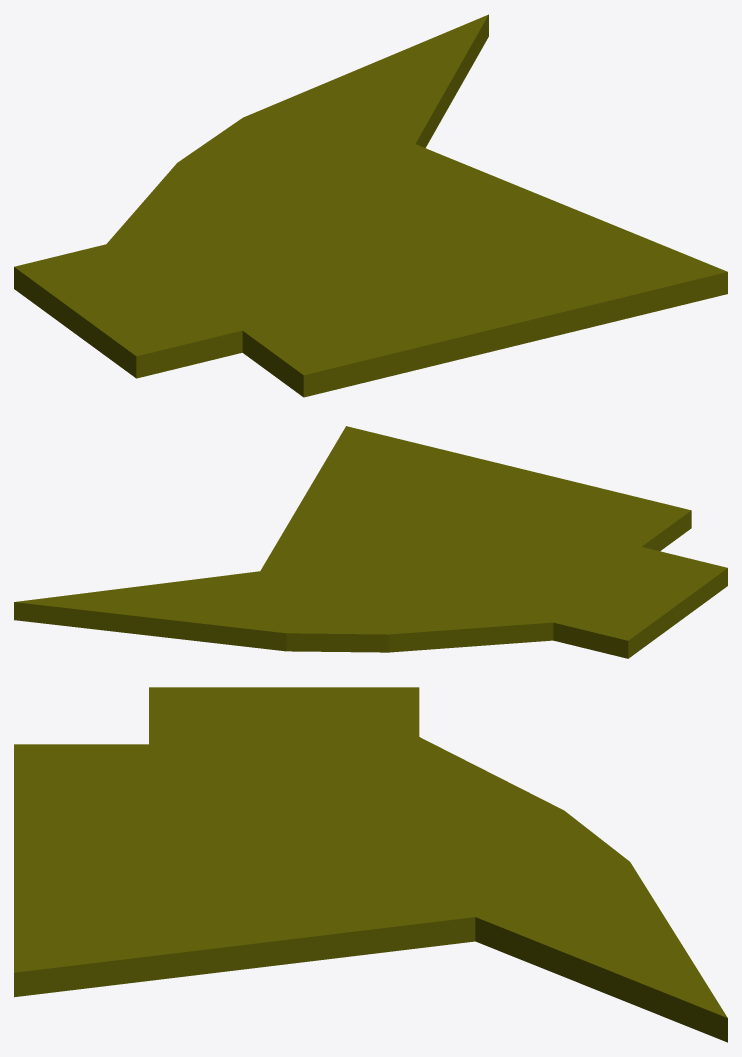
The model's file is x_0_boloto_2_1_rmstrd.fbx.
3 views of the same model, one above another, from view 1: azimuth 30°, elevation 25°; view 2: azimuth 150°, elevation 25°; view 3: azimuth 270°, elevation 25° (orthographic). The views are drawn at different scales.
Visible parts, largest first — view 1: x_0_boloto_2_1_rmstrd1; view 2: x_0_boloto_2_1_rmstrd1; view 3: x_0_boloto_2_1_rmstrd1.
Boxes of the visible parts, x1,y1,x2,y2 form: x_0_boloto_2_1_rmstrd1: (14,14,727,397); x_0_boloto_2_1_rmstrd1: (14,426,727,658); x_0_boloto_2_1_rmstrd1: (14,687,727,1042).
Bounding box in the file's own units: 5.8 × 0.2 × 5.28.
